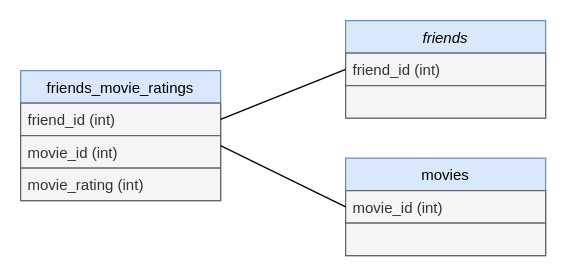
Some shapes in this 566 by 276 pixel diagram are drawn without their labels. Here are the shapes that lost their labels. From the top down, the centre of each, then its label:
At point (445, 101): "friend_name (varchar)".
At point (445, 239): "movie_name (varchar)".
